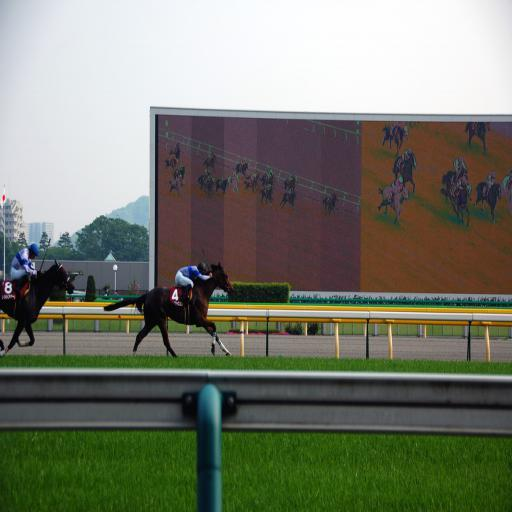Horse: (104, 257, 236, 358), (0, 255, 75, 358), (197, 153, 299, 209), (377, 185, 410, 225), (390, 153, 418, 195), (475, 183, 502, 221), (465, 122, 491, 155), (382, 126, 408, 151), (322, 193, 340, 215), (174, 165, 186, 185)
